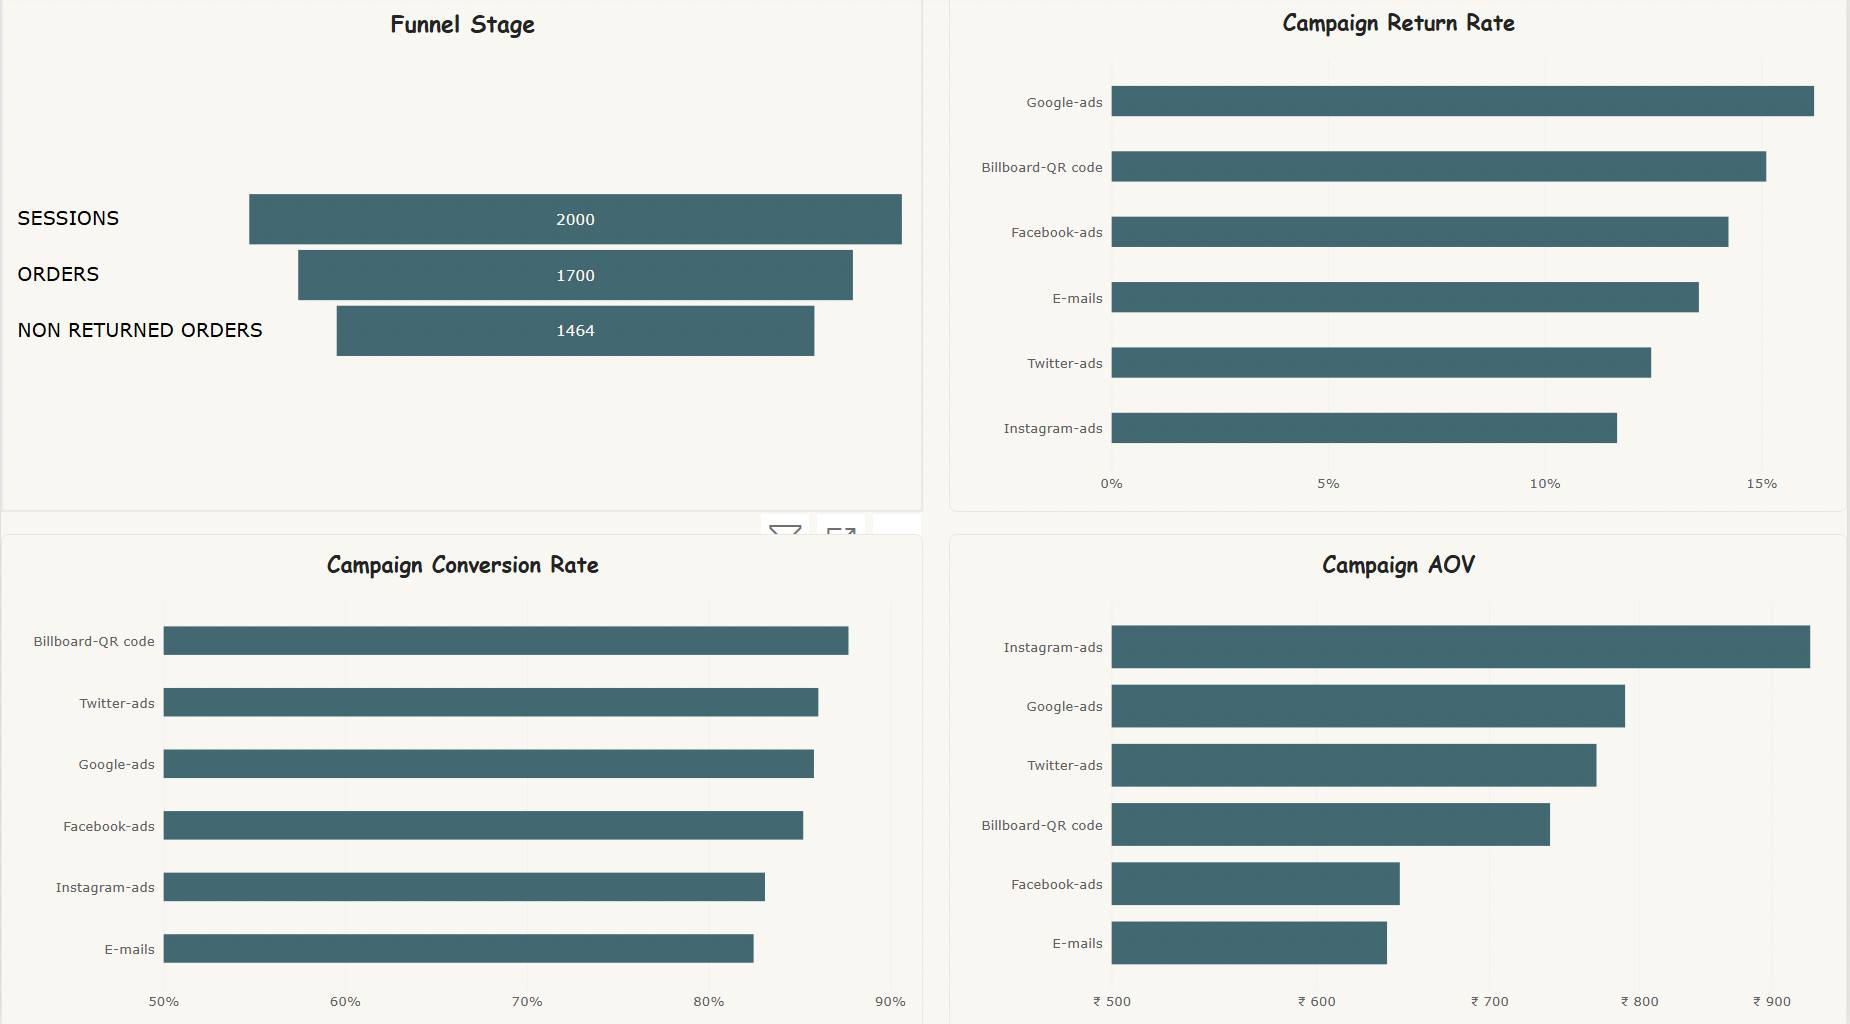

Layout of this report page (visuals, bound fields, positions):
{"tool":"powerbi","page":{"name":"Funnel & Marketing","canvas":[1920,1080],"ordinal":1},"visuals":[{"type":"funnel","title":"Funnel Stage","fields":{"Y":["CustomerData.Total Sessions","CustomerData.Total Orders","CustomerData.Total Non Returned Orders"]},"box":[0,0,959.3,541],"z":0},{"type":"clusteredBarChart","title":"Campaign Conversion Rate","fields":{"Category":["CustomerData.CampaignSchema"],"Y":["CustomerData.Conversion Rate"]},"box":[0,563.9,959.3,516.1],"z":1},{"type":"clusteredBarChart","title":"Campaign AOV","fields":{"Category":["CustomerData.CampaignSchema"],"Y":["CustomerData.Average Order Value"]},"box":[986.4,563.9,934.3,516.1],"z":2},{"type":"clusteredBarChart","title":"Campaign Return Rate","fields":{"Category":["CustomerData.CampaignSchema"],"Y":["CustomerData.Return Rate"]},"box":[986.4,0,934.3,541],"z":3}]}

Visuals, with their boxes in screenshot pixels (x1, y1, x2, y2), scaled from the page's 1920x1080 canvas onto the 1850x1024 screenshot:
"Funnel Stage" funnel: rect(0, 0, 924, 513)
"Campaign Conversion Rate" clusteredBarChart: rect(0, 535, 924, 1023)
"Campaign AOV" clusteredBarChart: rect(950, 535, 1849, 1023)
"Campaign Return Rate" clusteredBarChart: rect(950, 0, 1849, 513)
